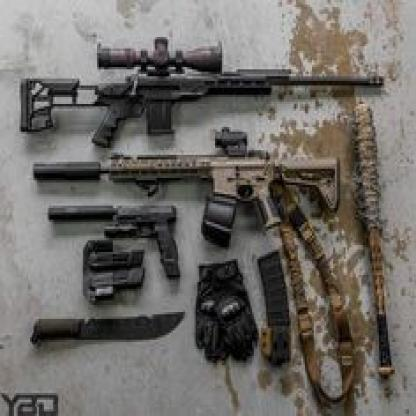Gun: (19, 34, 388, 150), (31, 124, 343, 252)
Knife: (30, 310, 185, 350)
Pistol: (45, 200, 182, 281)
